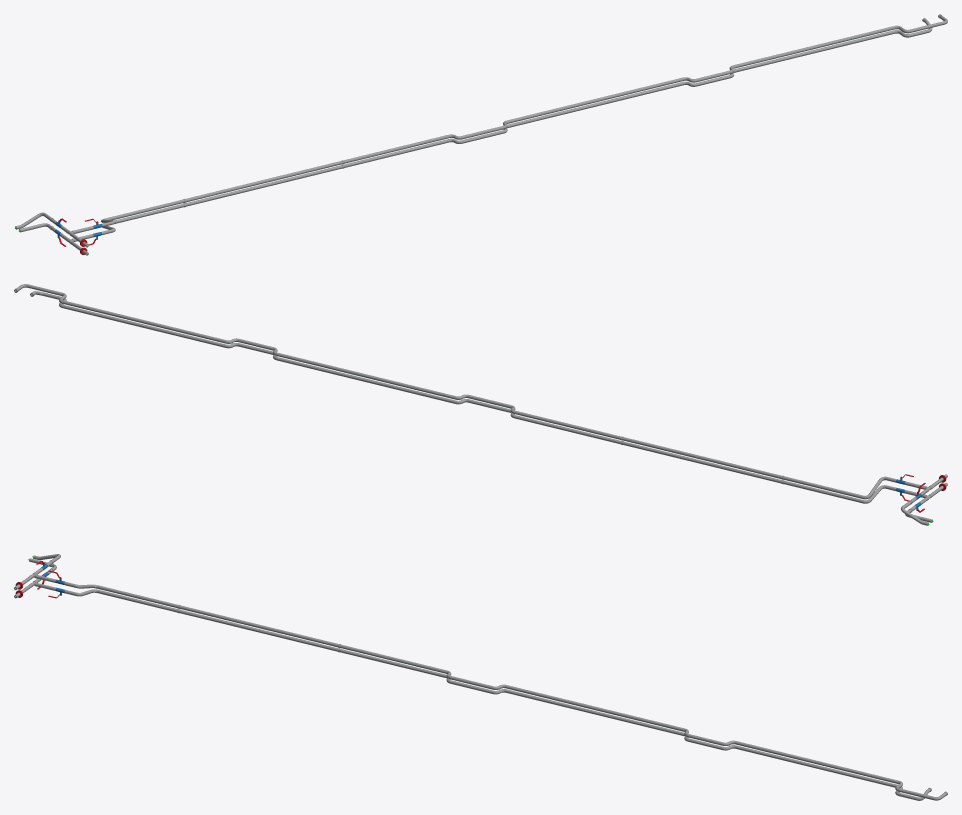
Rendered from Phase41 (2).fbx.
3 renders of one model, top to bottom at view 1: azimuth 30°, elevation 25°; view 2: azimuth 150°, elevation 25°; view 3: azimuth 330°, elevation 25°, orthographic.
Parts seen in each view (by area): view 1: Типы трубопроводов:CPS_Бесшовная труба из нс:1556653, Типы трубопроводов:CPS_Бесшовная труба из нс:1556678, Типы трубопроводов:CPS_Бесшовная труба из нс:1554750, Типы трубопроводов:CPS_Бесшовная труба из нс:1554821, Типы трубопроводов:CPS_Бесшовная труба из нс:1556694, Типы трубопроводов:CPS_Бесшовная труба из нс:1556919; view 2: Типы трубопроводов:CPS_Бесшовная труба из нс:1556653, Типы трубопроводов:CPS_Бесшовная труба из нс:1556678, Типы трубопроводов:CPS_Бесшовная труба из нс:1554821, Типы трубопроводов:CPS_Бесшовная труба из нс:1554750, Типы трубопроводов:CPS_Бесшовная труба из нс:1556919, Типы трубопроводов:CPS_Бесшовная труба из нс:1556694; view 3: Типы трубопроводов:CPS_Бесшовная труба из нс:1556678, Типы трубопроводов:CPS_Бесшовная труба из нс:1556653, Типы трубопроводов:CPS_Бесшовная труба из нс:1554750, Типы трубопроводов:CPS_Бесшовная труба из нс:1554821, Типы трубопроводов:CPS_Бесшовная труба из нс:1556694, Типы трубопроводов:CPS_Бесшовная труба из нс:1556919.
Boxes of the visible parts, x1,y1,x2,y2 form: Типы трубопроводов:CPS_Бесшовная труба из нс:1556653: (507, 77, 684, 123); Типы трубопроводов:CPS_Бесшовная труба из нс:1556678: (507, 82, 684, 127); Типы трубопроводов:CPS_Бесшовная труба из нс:1554750: (733, 26, 895, 68); Типы трубопроводов:CPS_Бесшовная труба из нс:1554821: (734, 30, 895, 72); Типы трубопроводов:CPS_Бесшовная труба из нс:1556694: (186, 161, 342, 201); Типы трубопроводов:CPS_Бесшовная труба из нс:1556919: (186, 165, 342, 206); Типы трубопроводов:CPS_Бесшовная труба из нс:1556653: (276, 352, 455, 399); Типы трубопроводов:CPS_Бесшовная труба из нс:1556678: (276, 357, 455, 403); Типы трубопроводов:CPS_Бесшовная труба из нс:1554821: (62, 304, 225, 347); Типы трубопроводов:CPS_Бесшовная труба из нс:1554750: (62, 300, 225, 343); Типы трубопроводов:CPS_Бесшовная труба из нс:1556919: (623, 441, 781, 483); Типы трубопроводов:CPS_Бесшовная труба из нс:1556694: (623, 437, 781, 478); Типы трубопроводов:CPS_Бесшовная труба из нс:1556678: (505, 689, 684, 735); Типы трубопроводов:CPS_Бесшовная труба из нс:1556653: (505, 685, 684, 731); Типы трубопроводов:CPS_Бесшовная труба из нс:1554750: (735, 741, 898, 783); Типы трубопроводов:CPS_Бесшовная труба из нс:1554821: (735, 745, 897, 787); Типы трубопроводов:CPS_Бесшовная труба из нс:1556694: (179, 605, 337, 646); Типы трубопроводов:CPS_Бесшовная труба из нс:1556919: (179, 610, 337, 651).
Bounding box in the file's own units: 17376 × 1536 × 458.
